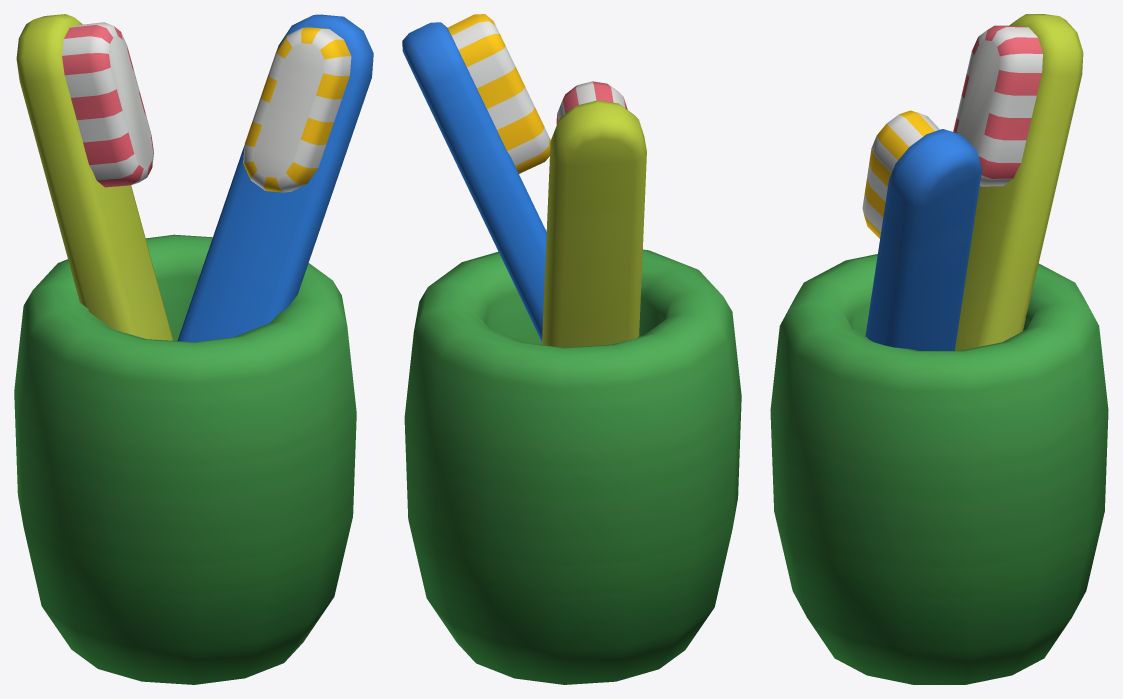
The model's file is Toothbrush_02.glb.
3 views of the same model, side by side, from view 1: azimuth 30°, elevation 25°; view 2: azimuth 150°, elevation 25°; view 3: azimuth 270°, elevation 25° (orthographic). The views are drawn at different scales.
Visible parts, largest first — view 1: Toothbrush_02; view 2: Toothbrush_02; view 3: Toothbrush_02.
Boxes of the visible parts, left/top/right/bottom form: Toothbrush_02: left=14, top=14, right=373, bottom=684; Toothbrush_02: left=402, top=14, right=741, bottom=684; Toothbrush_02: left=770, top=14, right=1108, bottom=684.
Size of the model in its own units: 0.1192 by 0.2102 by 0.1103.
Materials: 1 (1 with a texture image).
